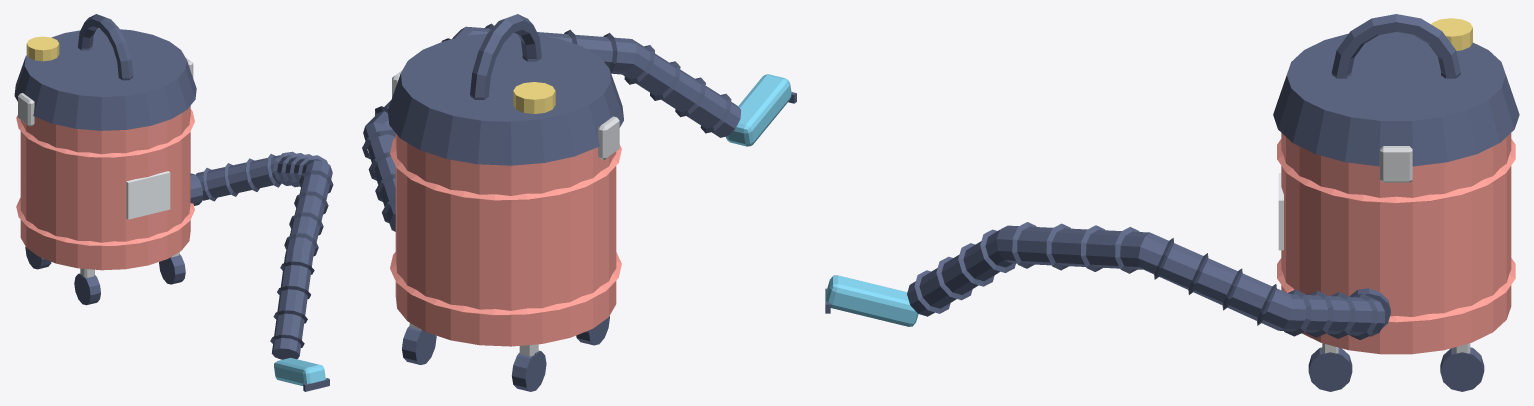
Rendered from T_shop_vac_v2.glb.
The picture shows the model from 3 angles, left to right: view 1: azimuth 30°, elevation 25°; view 2: azimuth 150°, elevation 25°; view 3: azimuth 270°, elevation 25°; orthographic projection. The views are drawn at different scales.
Visible parts, largest first — view 1: Canister, Lid, Hose, Casters, TopHandle, Nozzle; view 2: Canister, Lid, Hose, Casters, Nozzle, TopHandle; view 3: Canister, Lid, Hose, Casters, TopHandle, Nozzle.
Boxes of the visible parts, bbox=[...] form: Canister: bbox=[16, 106, 202, 270]; Lid: bbox=[14, 28, 196, 130]; Hose: bbox=[195, 151, 333, 359]; Casters: bbox=[25, 247, 185, 305]; TopHandle: bbox=[78, 14, 133, 80]; Nozzle: bbox=[274, 357, 329, 391]; Canister: bbox=[390, 133, 621, 346]; Lid: bbox=[387, 33, 623, 165]; Hose: bbox=[362, 23, 741, 231]; Casters: bbox=[402, 316, 609, 391]; Nozzle: bbox=[726, 74, 796, 146]; TopHandle: bbox=[470, 14, 541, 99]; Canister: bbox=[1277, 133, 1515, 354]; Lid: bbox=[1273, 18, 1519, 182]; Hose: bbox=[907, 222, 1384, 339]; Casters: bbox=[1308, 343, 1484, 391]; TopHandle: bbox=[1331, 14, 1460, 78]; Nozzle: bbox=[825, 275, 918, 326].
Size of the model in its own units: 0.6629 by 0.698 by 1.27.
